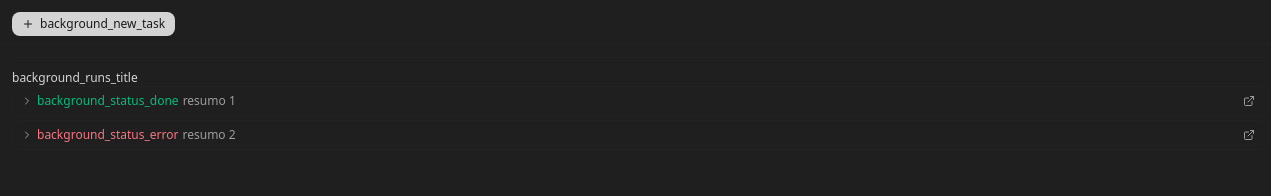
Test case: TasksTab › card de execução colapsado › múltiplos cards expandem independentemente
Click the button "background_status_done resumo 1" at (108, 100), box [21,93,1231,109]
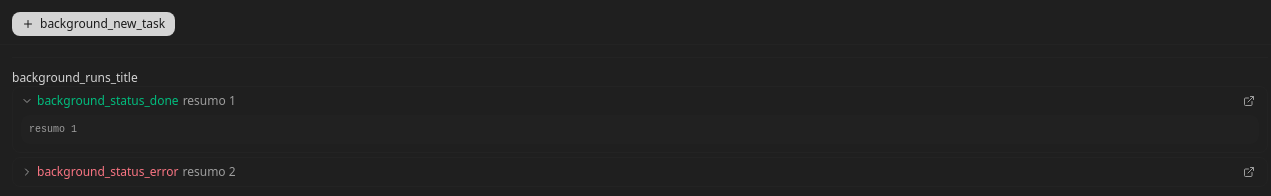
Expected: the button "background_status_done resumo 1" is expanded, [21,93,1231,109]
